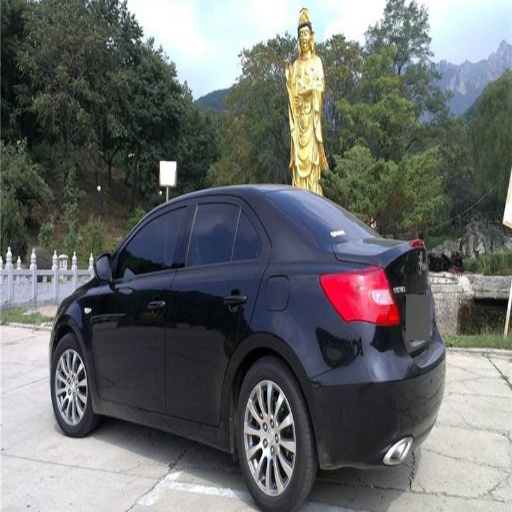back_bumper: (299, 323, 444, 466)
back_glass: (283, 193, 380, 255)
back_left_door: (167, 194, 271, 423)
